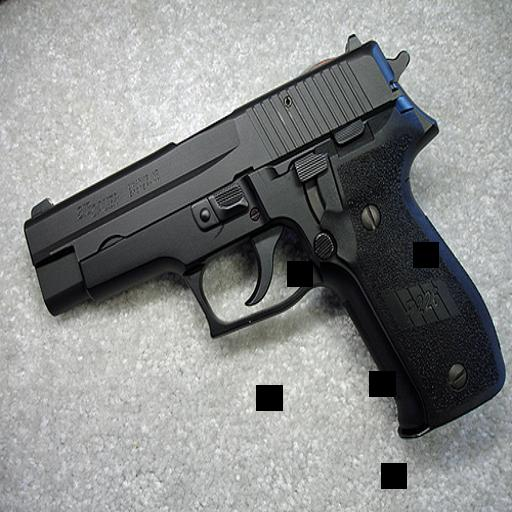Handgun: (14, 31, 501, 441)
